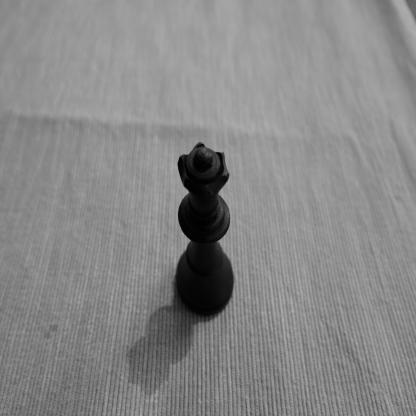black-queen: (175, 140, 234, 317)
